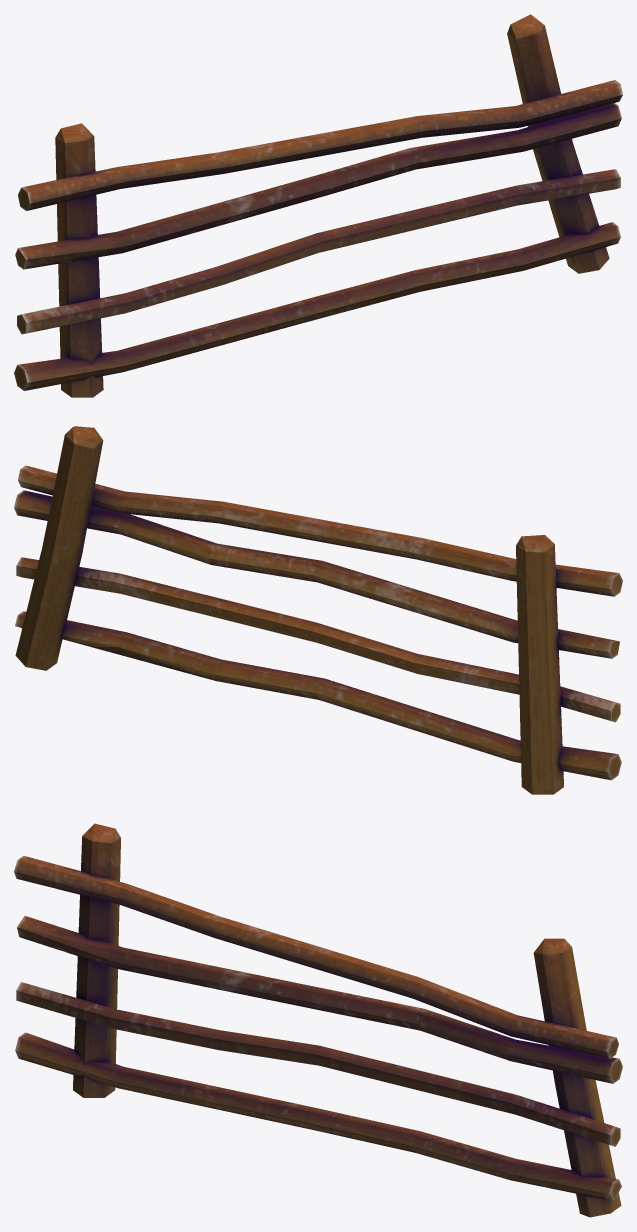
Rendered from Fence2.fbx.
3 renders of one model, top to bottom at view 1: azimuth 30°, elevation 25°; view 2: azimuth 150°, elevation 25°; view 3: azimuth 330°, elevation 25°, orthographic.
Visible parts, largest first — view 1: EA03_Fence_Beam_01c_LOD0; view 2: EA03_Fence_Beam_01c_LOD0; view 3: EA03_Fence_Beam_01c_LOD0.
Part boxes in pixels (x1,y1,x2,y2): EA03_Fence_Beam_01c_LOD0: (14, 14, 622, 397); EA03_Fence_Beam_01c_LOD0: (14, 426, 622, 794); EA03_Fence_Beam_01c_LOD0: (14, 823, 622, 1217).
Size of the model in its own units: 4.1 by 0.3891 by 1.69.
1 material, 1 textured.
